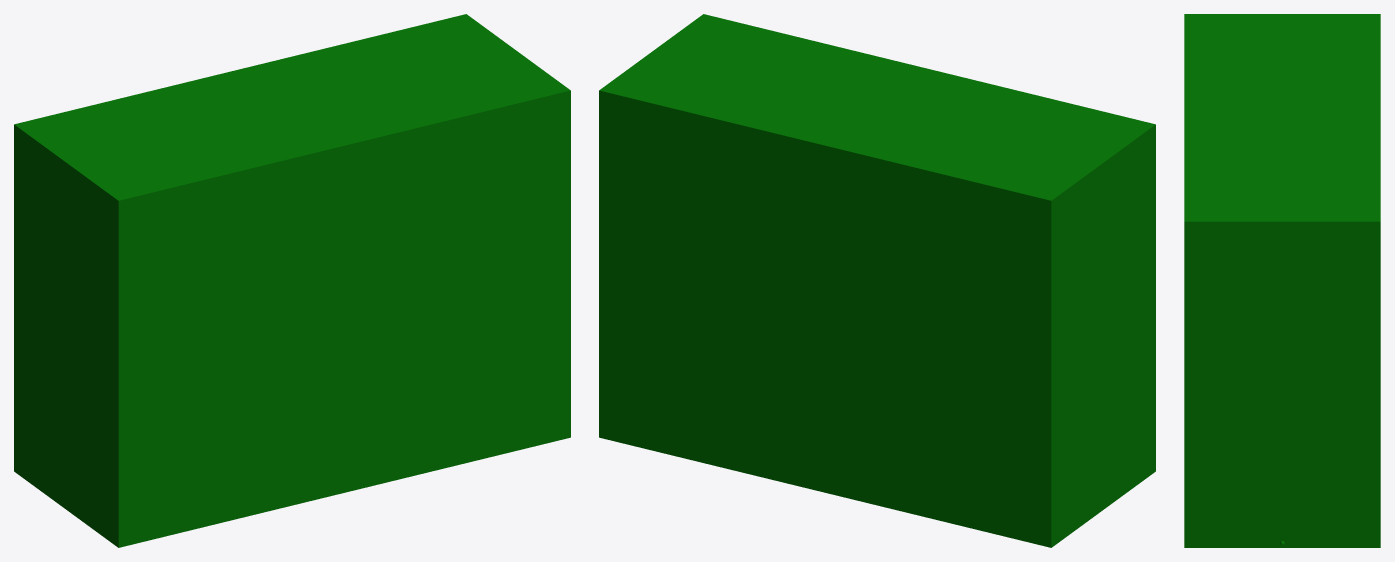
The model's file is Image-1710907747232-2281184254768_LUBE-OIL-STORAGE-LOCKER-WD.fbx.
3 renders of one model, left to right at view 1: azimuth 30°, elevation 25°; view 2: azimuth 150°, elevation 25°; view 3: azimuth 270°, elevation 25°, orthographic. The views are drawn at different scales.
Visible parts, largest first — view 1: BOX 1 of SUBEQUIPMENT /LUBE-OIL-STORAGE-LOCKER-W/D-PRIM; view 2: BOX 1 of SUBEQUIPMENT /LUBE-OIL-STORAGE-LOCKER-W/D-PRIM; view 3: BOX 1 of SUBEQUIPMENT /LUBE-OIL-STORAGE-LOCKER-W/D-PRIM.
Part boxes in pixels (x1=…): BOX 1 of SUBEQUIPMENT /LUBE-OIL-STORAGE-LOCKER-W/D-PRIM: x1=14, y1=14, x2=570, y2=547; BOX 1 of SUBEQUIPMENT /LUBE-OIL-STORAGE-LOCKER-W/D-PRIM: x1=599, y1=14, x2=1155, y2=547; BOX 1 of SUBEQUIPMENT /LUBE-OIL-STORAGE-LOCKER-W/D-PRIM: x1=1184, y1=14, x2=1380, y2=547.
Size of the model in its own units: 3.04 by 1.2 by 2.2.
